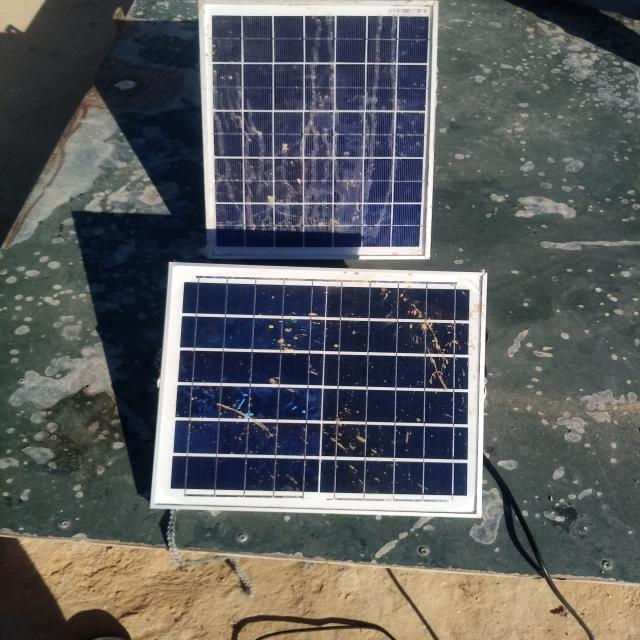faulty: (152, 263, 486, 515), (201, 2, 437, 258)
